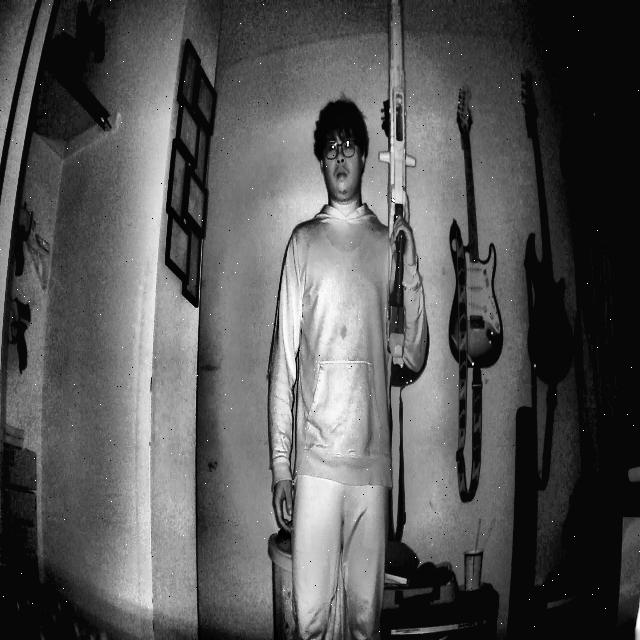Nerf_Blaster: (369, 3, 437, 392)
